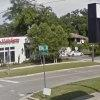Tree: (19, 3, 66, 62)
